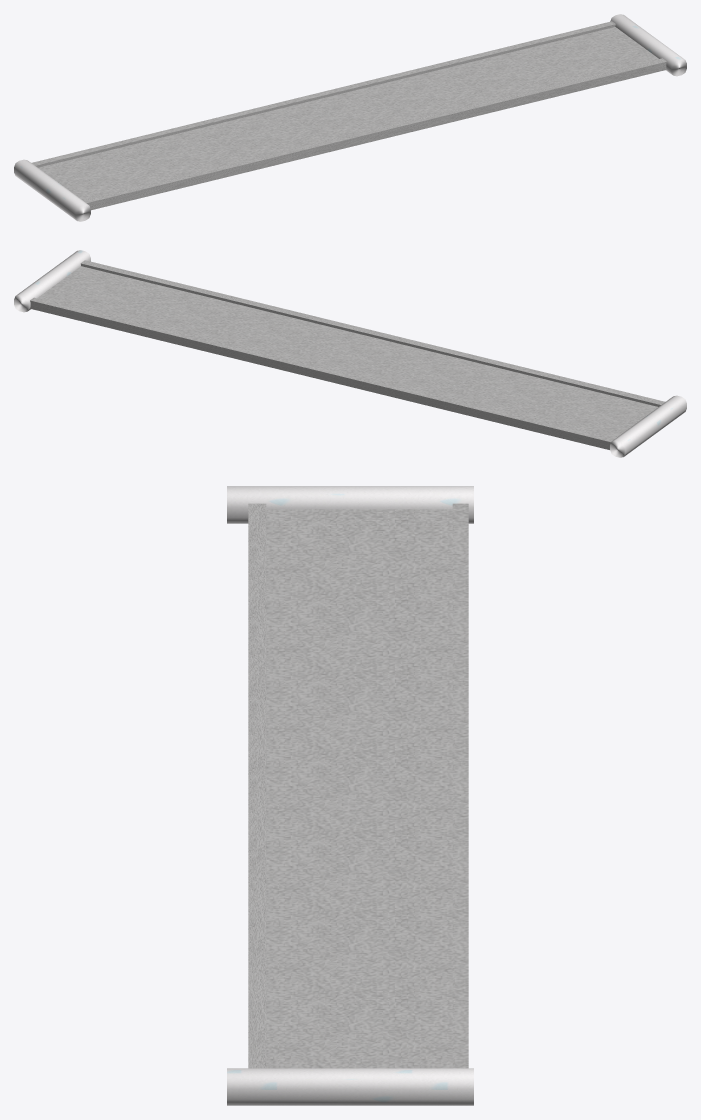
Rendered from tennis net placeholder rec2.0.fbx.
The picture shows the model from 3 angles, top to bottom: view 1: azimuth 30°, elevation 25°; view 2: azimuth 150°, elevation 25°; view 3: azimuth 270°, elevation 25°; orthographic projection. The views are drawn at different scales.
Parts seen in each view (by area): view 1: Cube.002, Cube; view 2: Cube.002, Cube; view 3: Cube.002, Cube.
Part boxes in pixels (<box>): Cube.002: <box>32,21,666,210</box>; Cube: <box>14,14,686,221</box>; Cube.002: <box>30,260,665,449</box>; Cube: <box>14,250,686,457</box>; Cube.002: <box>248,503,468,1068</box>; Cube: <box>227,486,473,1105</box>.
Size of the model in its own units: 12.81 by 0.3188 by 2.24.
2 materials, 2 textured.
